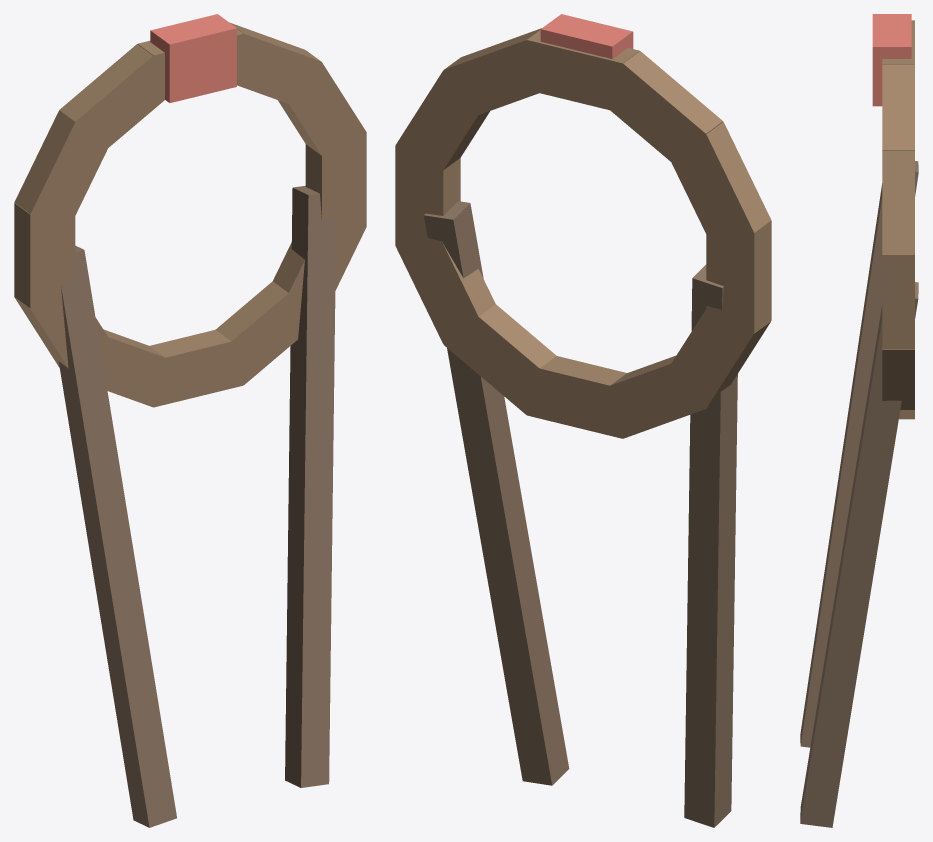
File: build_bark_wreath.glb
The picture shows the model from 3 angles, left to right: view 1: azimuth 30°, elevation 25°; view 2: azimuth 150°, elevation 25°; view 3: azimuth 270°, elevation 25°; orthographic projection. The views are drawn at different scales.
Visible parts, largest first — view 1: Baked; view 2: Baked; view 3: Baked.
Boxes of the visible parts, box(x1,y1,x2,y2) form: Baked: box(14, 14, 366, 827); Baked: box(395, 14, 771, 827); Baked: box(800, 14, 918, 827).
Size of the model in its own units: 0.6 by 1.27 by 0.1818.
